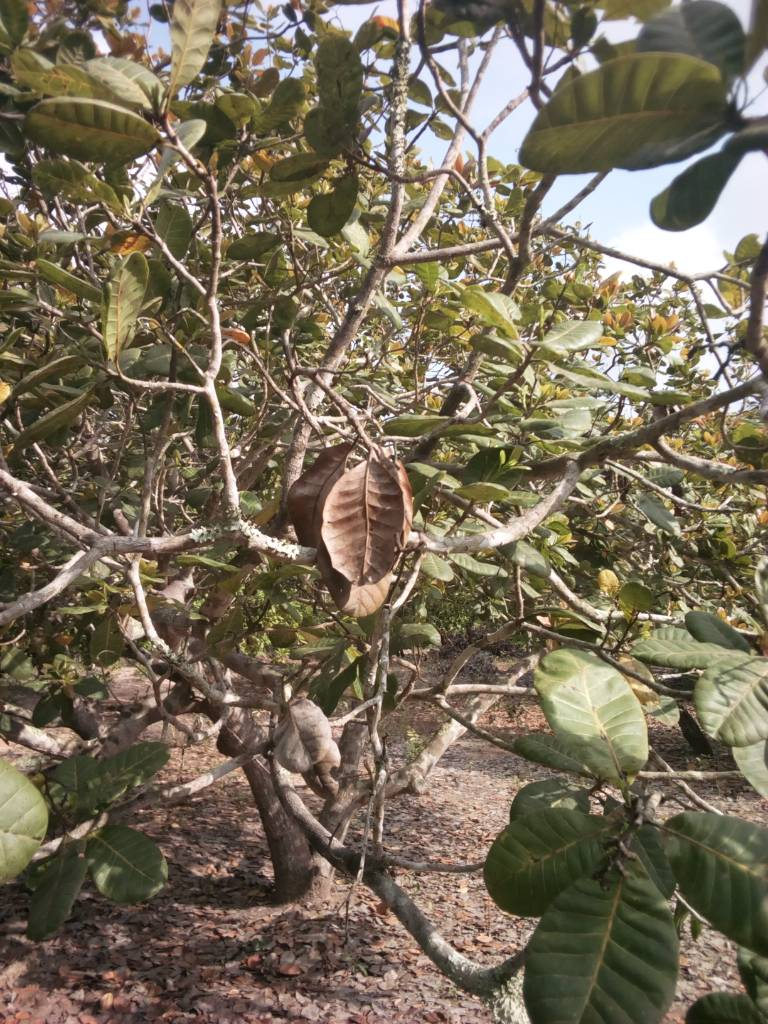Dessèchement des bourgeons: (592, 771, 655, 883)
